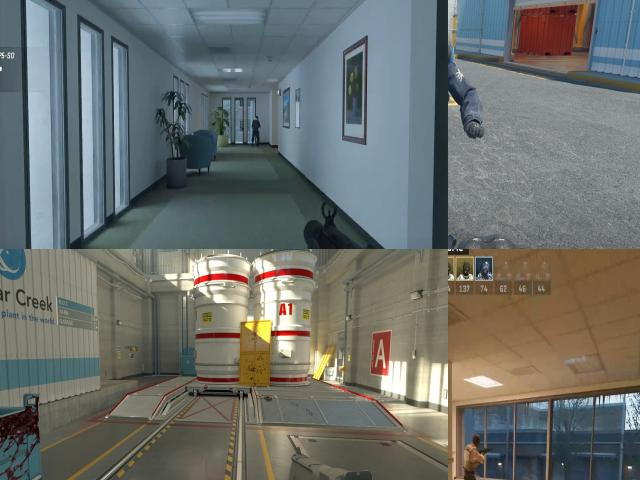Bomb: (263, 393, 274, 402)
CT: (252, 113, 262, 141)
CT-Head: (253, 116, 259, 125)
T: (460, 437, 488, 480)
T-Head: (468, 431, 484, 453)
